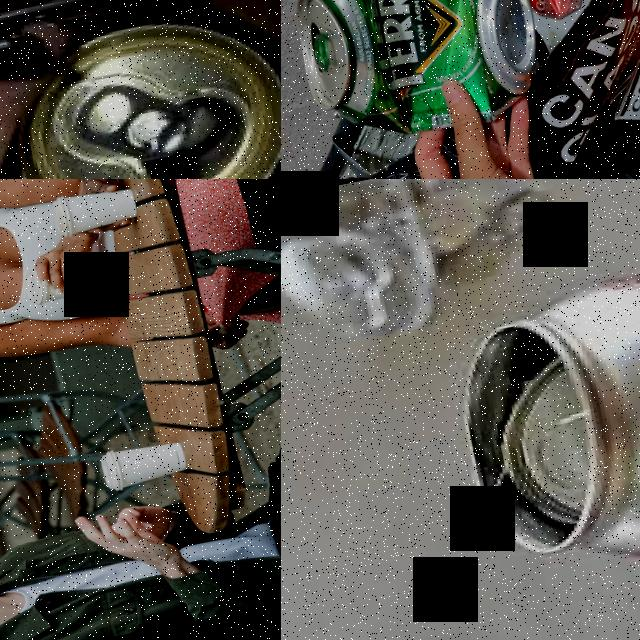can: (437, 241, 640, 588)
cup: (48, 182, 140, 240), (98, 436, 188, 492), (21, 254, 112, 307)
